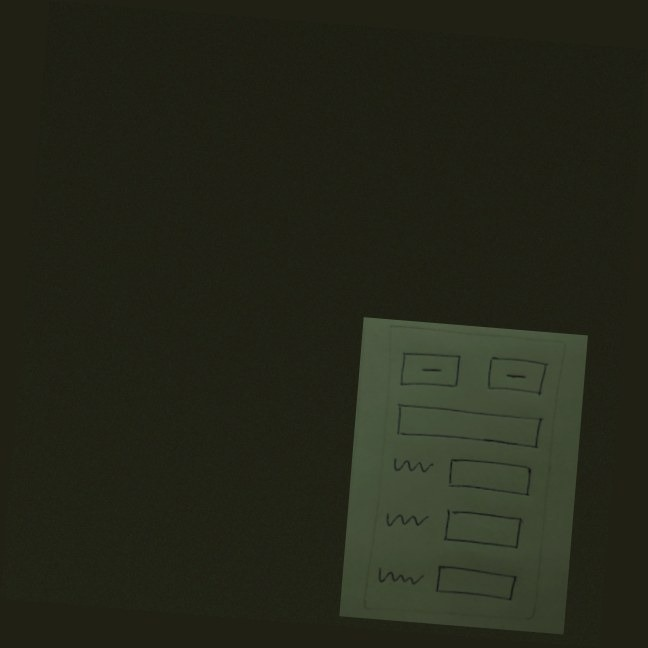button: (482, 353, 550, 397), (397, 348, 465, 391)
text: (373, 562, 428, 589), (381, 504, 430, 533), (388, 452, 438, 480)
text_input: (391, 399, 545, 451), (437, 504, 530, 553), (442, 453, 534, 502), (433, 561, 518, 605)
